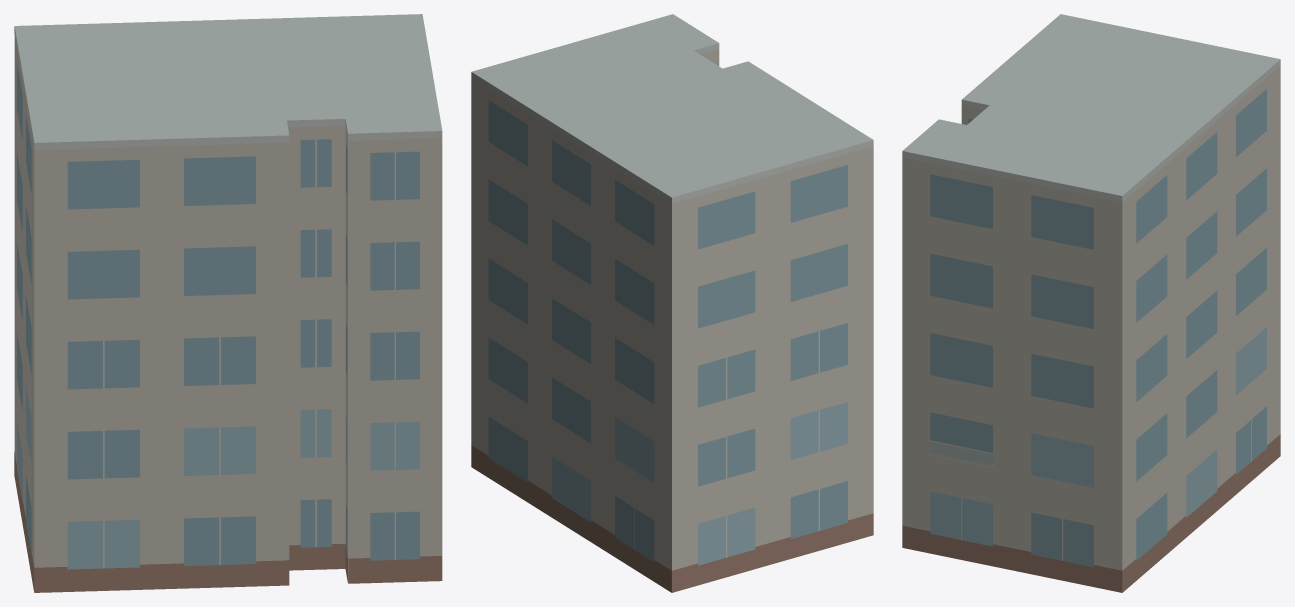
The model's file is survey-upis-32524603.glb.
The picture shows the model from 3 angles, left to right: view 1: azimuth 30°, elevation 25°; view 2: azimuth 150°, elevation 25°; view 3: azimuth 270°, elevation 25°; orthographic projection. The views are drawn at different scales.
Visible parts, largest first — view 1: survey-upis-32524603.tmp; view 2: survey-upis-32524603.tmp; view 3: survey-upis-32524603.tmp.
Boxes of the visible parts, left/top/right/bottom form: survey-upis-32524603.tmp: left=14, top=14, right=442, bottom=592; survey-upis-32524603.tmp: left=471, top=14, right=873, bottom=592; survey-upis-32524603.tmp: left=902, top=14, right=1280, bottom=592.
Size of the model in its own units: 15.26 by 15.5 by 13.4.
